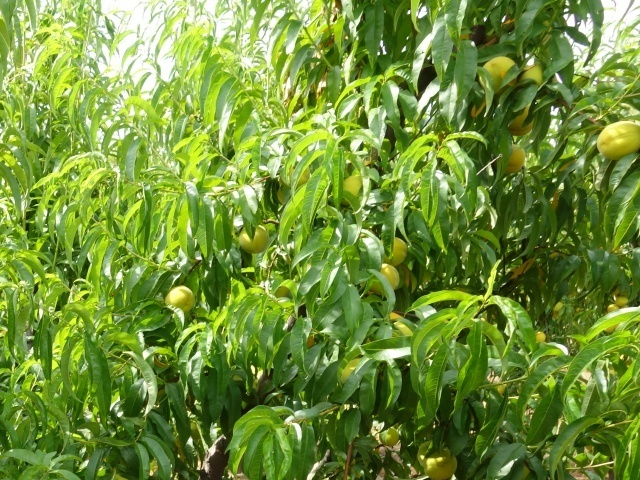peach: (593, 110, 639, 166), (479, 51, 522, 96), (236, 220, 275, 260), (369, 260, 405, 299), (422, 446, 462, 480), (378, 234, 412, 271), (506, 103, 540, 139), (162, 282, 196, 315), (500, 141, 532, 175), (519, 58, 549, 90), (374, 425, 401, 449)
